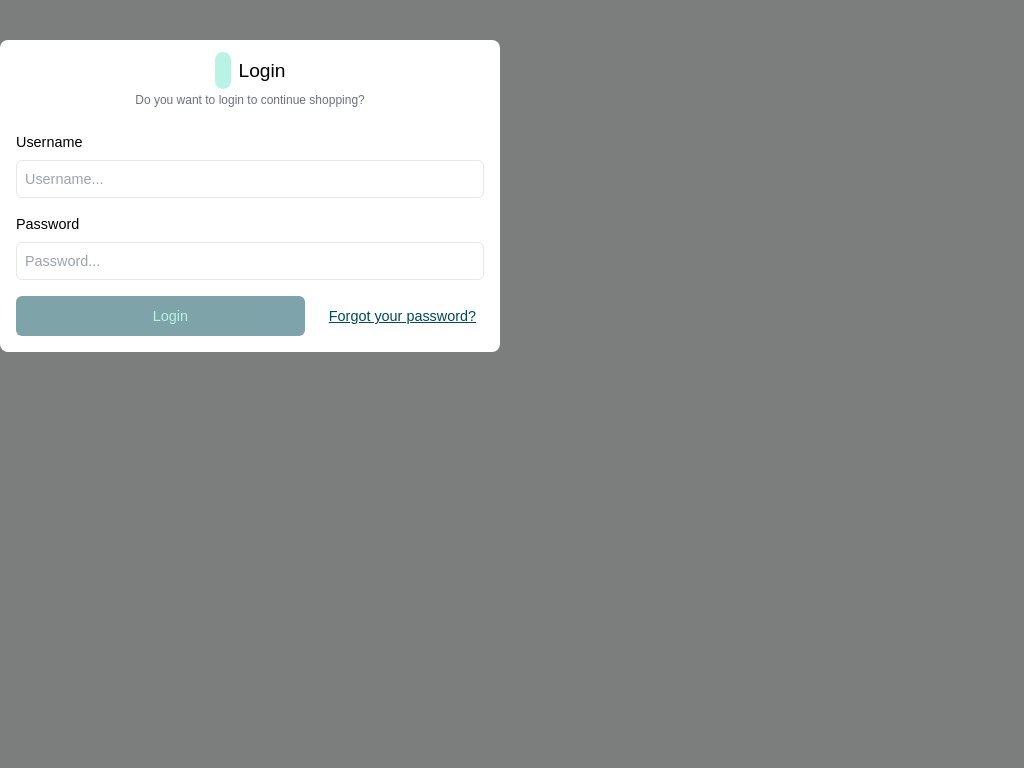
Test: Login component › should show forgot password message on click and reset it
Step 1. Click the button "Forgot your password?" → point(402, 316), box [321,296,484,336]
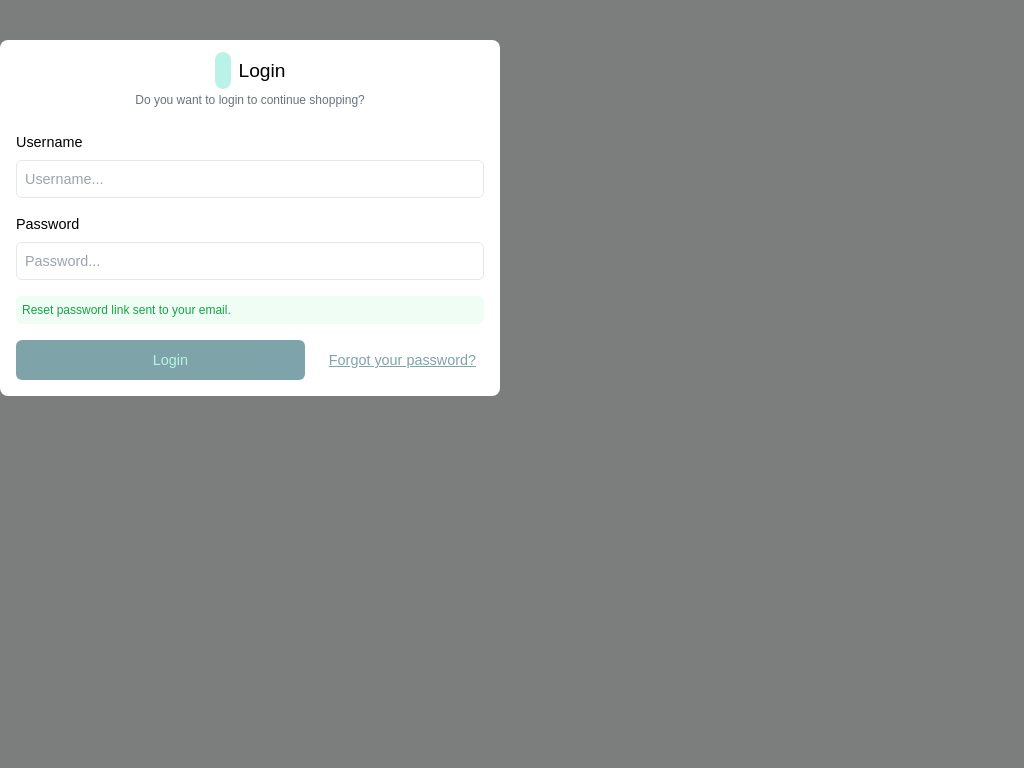
Result: the text "Reset password link sent to your email." is shown at [16,296,484,324]
